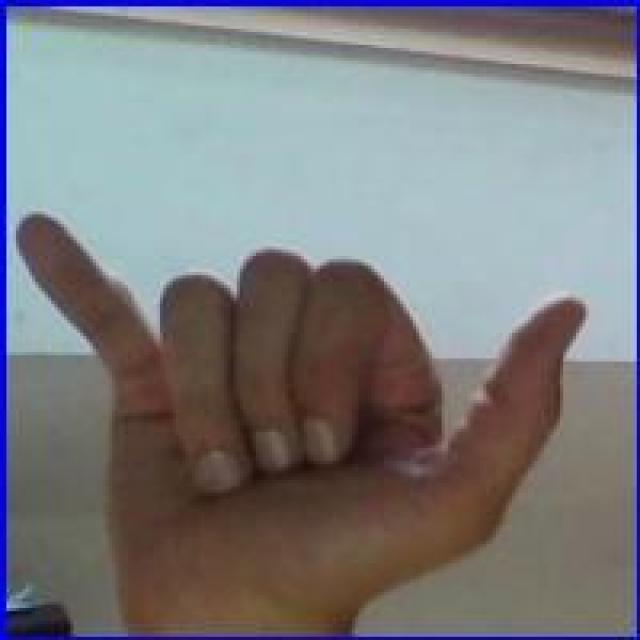Y: (19, 195, 586, 618)
